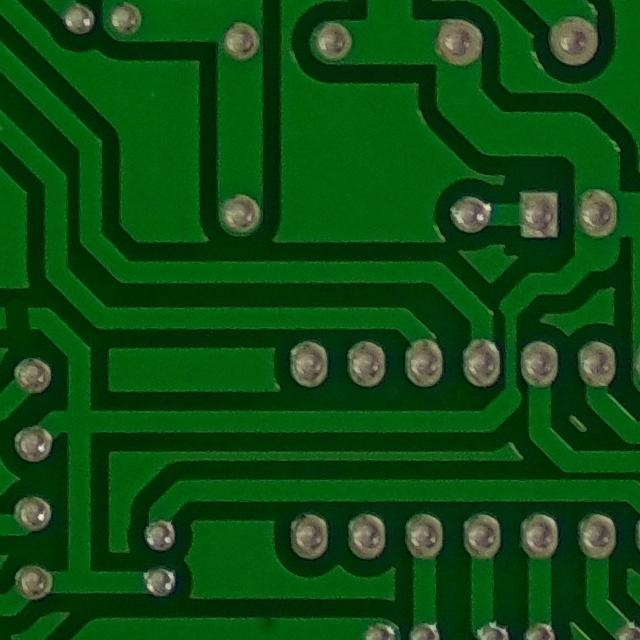open_circuit: (0, 293, 41, 343)
